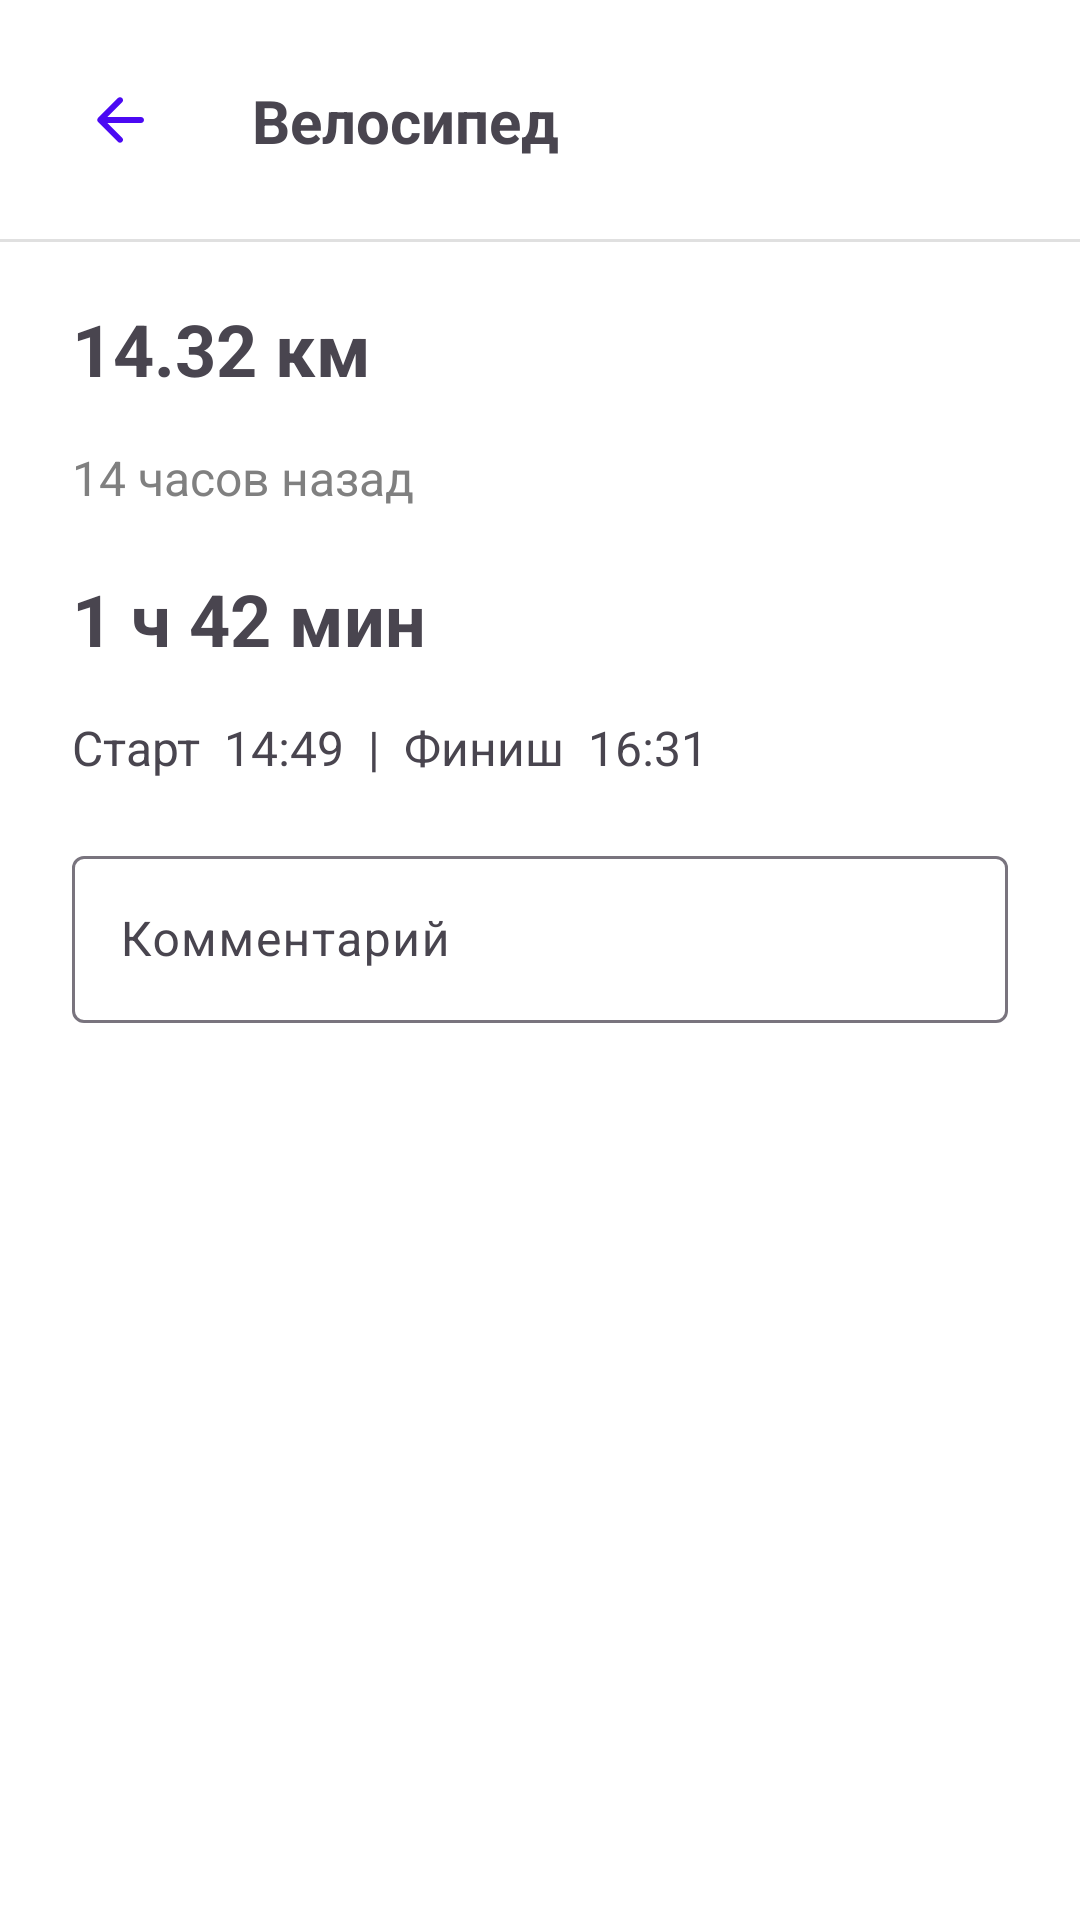

Icons on this 1080×1920 Android screen, each with its box as (x1, y1, x2, y2):
arrow: (97, 97, 144, 143)
